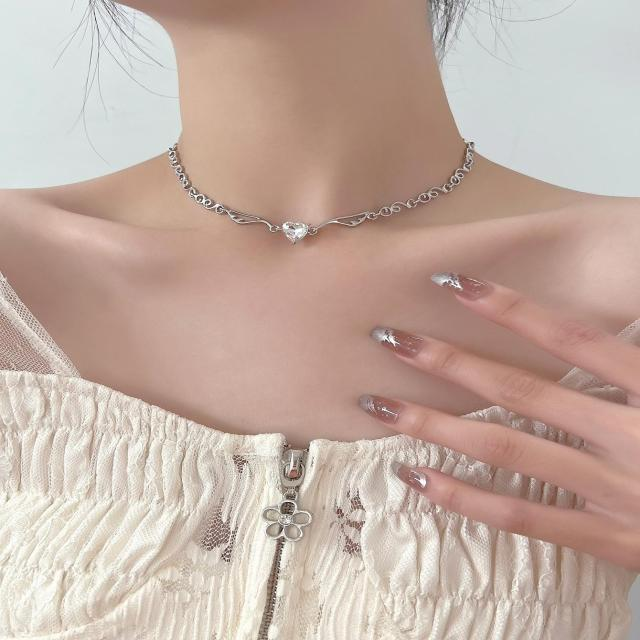Nail: (433, 275, 492, 300), (393, 458, 433, 491), (374, 329, 422, 356), (362, 396, 399, 423)
